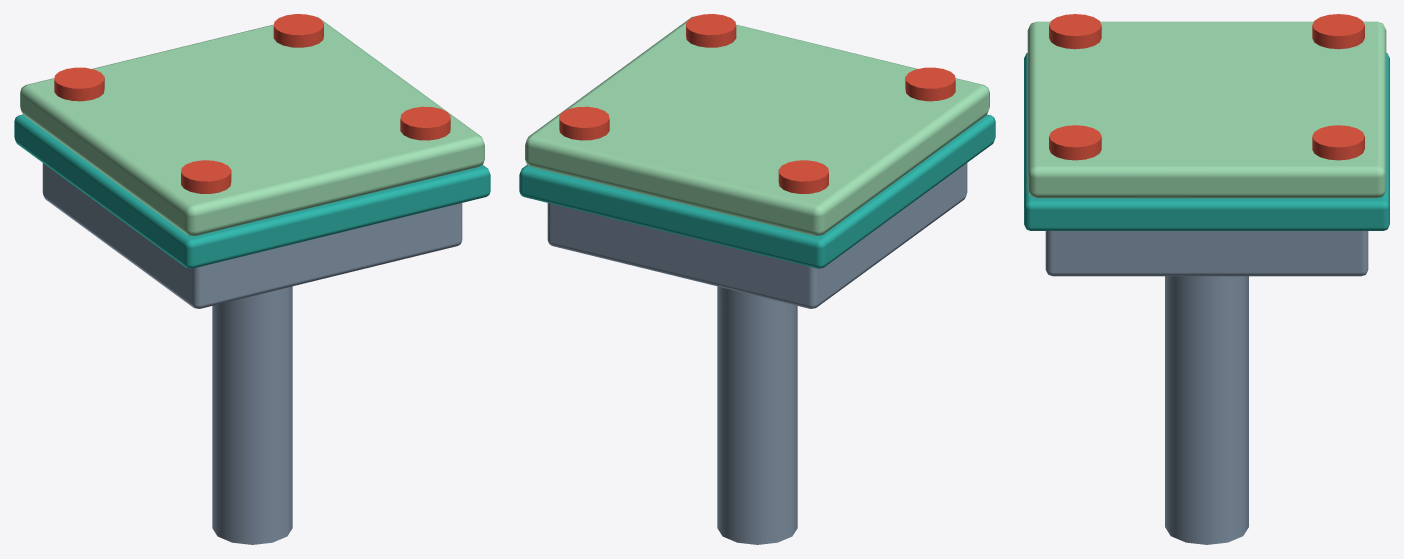
Rendered from PLAT_Toy_S.glb.
The picture shows the model from 3 angles, left to right: view 1: azimuth 30°, elevation 25°; view 2: azimuth 150°, elevation 25°; view 3: azimuth 270°, elevation 25°; orthographic projection. The views are drawn at different scales.
Parts seen in each view (by area): view 1: Top, Strut, Base, Band, Stud_-1_1, Stud_1_1, Stud_1_-1, Stud_-1_-1; view 2: Top, Strut, Base, Band, Stud_-1_-1, Stud_1_1, Stud_1_-1, Stud_-1_1; view 3: Top, Strut, Base, Band, Stud_1_1, Stud_1_-1, Stud_-1_1, Stud_-1_-1.
Boxes of the visible parts, x1,y1,x2,y2 form: Top: [20, 16, 484, 235]; Strut: [212, 286, 292, 544]; Base: [42, 163, 462, 308]; Band: [14, 114, 490, 268]; Stud_-1_1: [54, 67, 104, 101]; Stud_1_1: [273, 14, 323, 47]; Stud_1_-1: [400, 106, 450, 140]; Stud_-1_-1: [181, 160, 231, 193]; Top: [525, 16, 989, 235]; Strut: [717, 286, 797, 544]; Base: [547, 163, 967, 308]; Band: [519, 114, 995, 268]; Stud_-1_-1: [905, 67, 955, 101]; Stud_1_1: [559, 106, 609, 140]; Stud_1_-1: [686, 14, 736, 47]; Stud_-1_1: [778, 160, 828, 193]; Top: [1027, 21, 1386, 198]; Strut: [1165, 276, 1248, 544]; Base: [1045, 231, 1368, 276]; Band: [1024, 53, 1389, 230]; Stud_1_1: [1312, 125, 1364, 160]; Stud_1_-1: [1049, 125, 1101, 160]; Stud_-1_1: [1312, 14, 1364, 49]; Stud_-1_-1: [1049, 14, 1101, 49].
Size of the model in its own units: 3.06 by 4.12 by 3.06.
